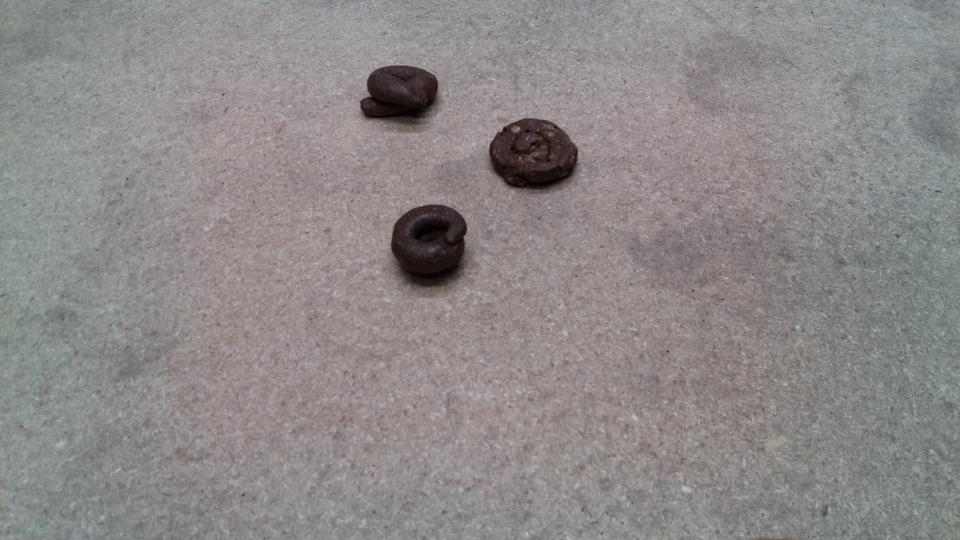poop: (486, 117, 581, 190), (389, 205, 468, 283), (359, 64, 438, 123)
